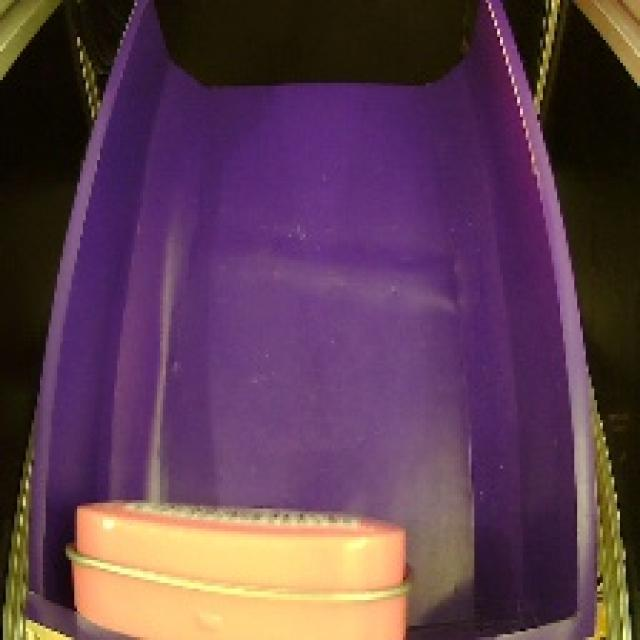metal: (61, 473, 436, 640)
